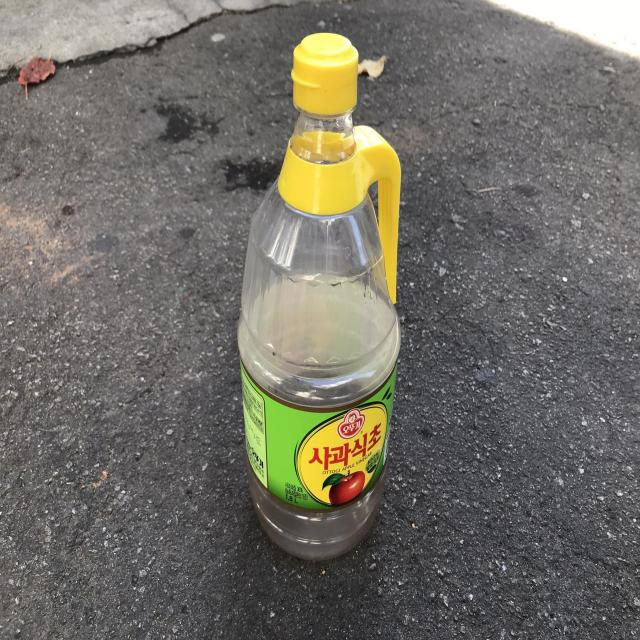plastic: (237, 32, 401, 559)
